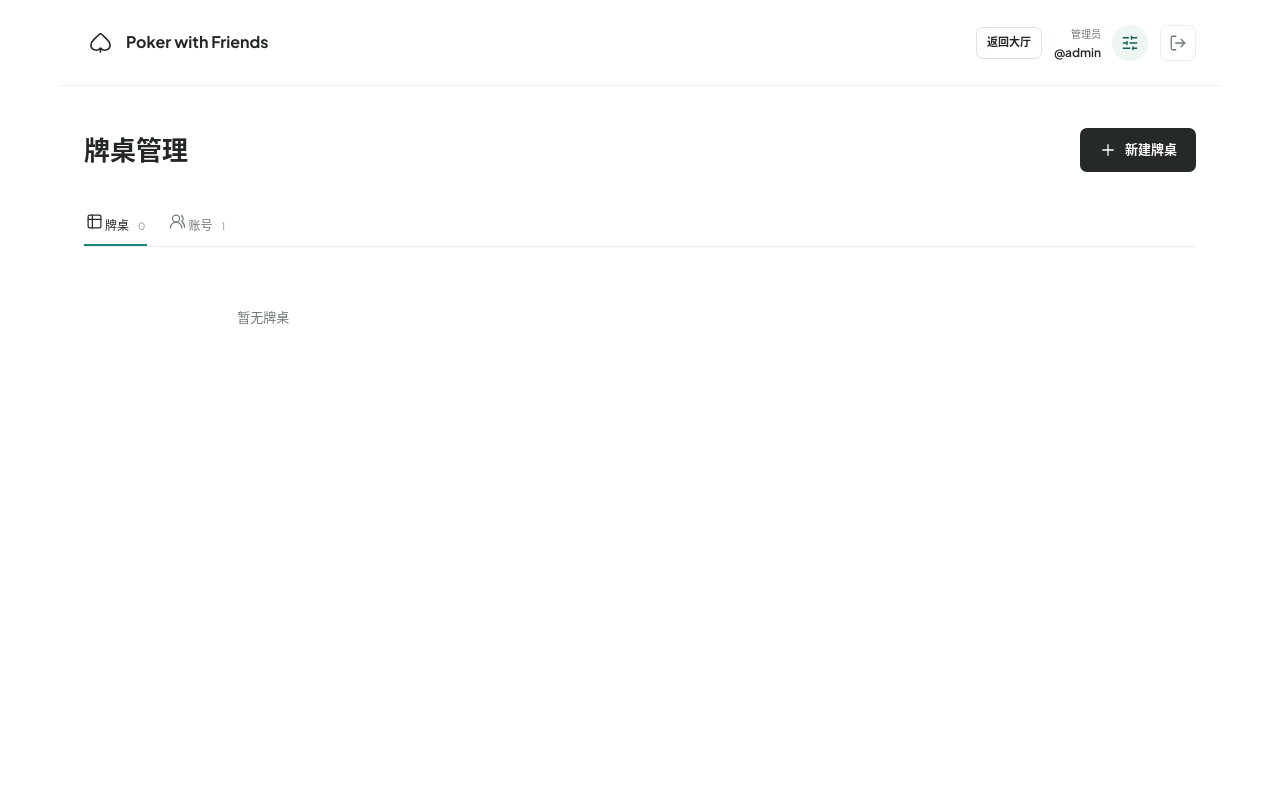
password changes without the old password › lets a admin save a new password and validates its length
Click the button "管理员 @admin" at (1101,42), box [1054, 24, 1148, 60]
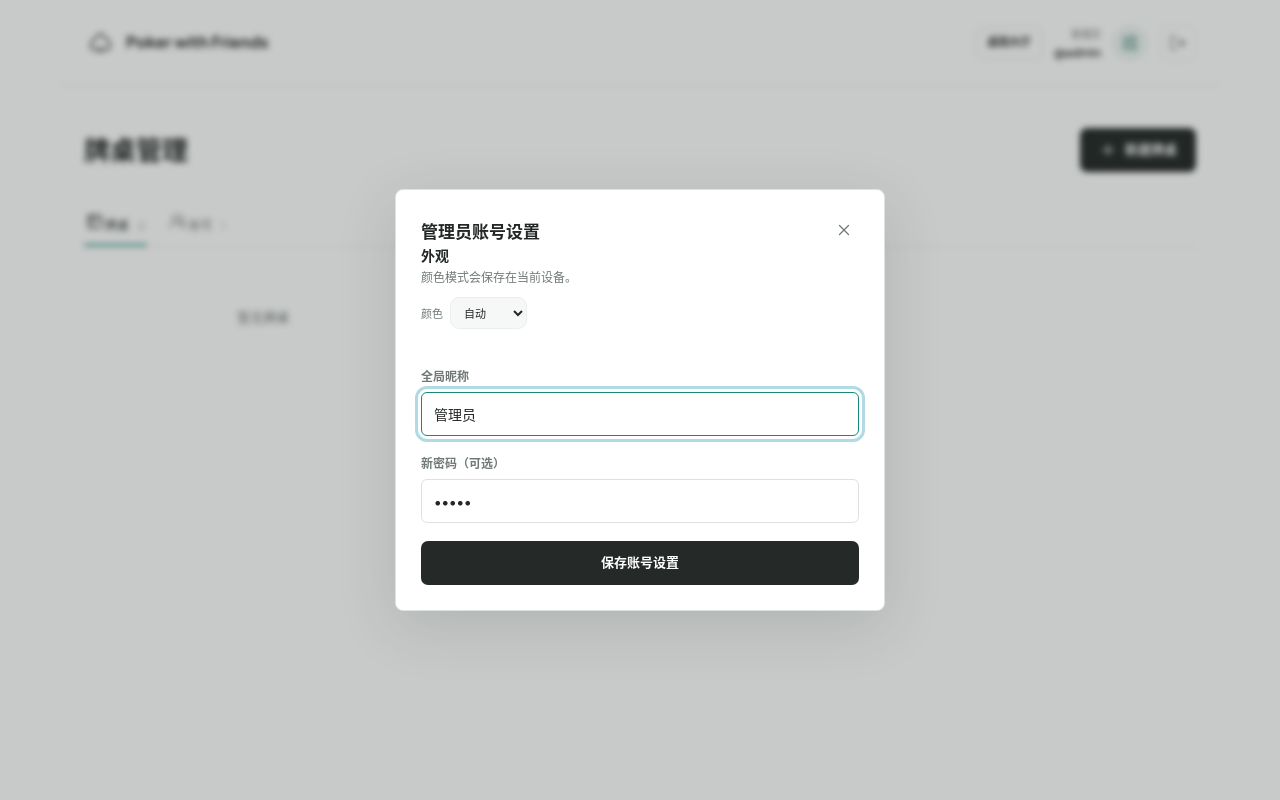
Now the number of password fields is 1
Type "short" into the password field labelled "新密码（可选）" at (640,501), box [421, 479, 859, 523]
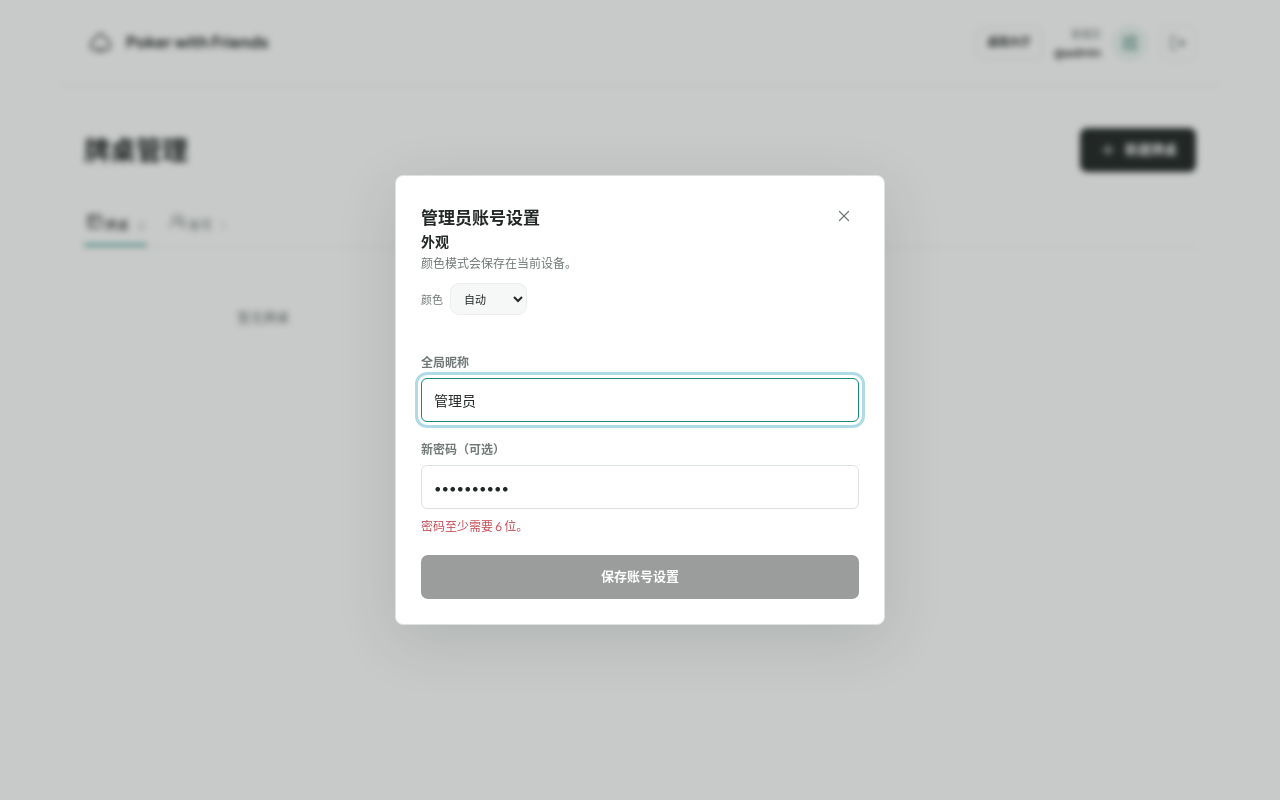
Now the button "保存账号设置" is disabled, box [421, 555, 859, 599]
Type "new-secret" into the password field labelled "新密码（可选） 密码至少需要 6 位。" at (640,487), box [421, 465, 859, 509]
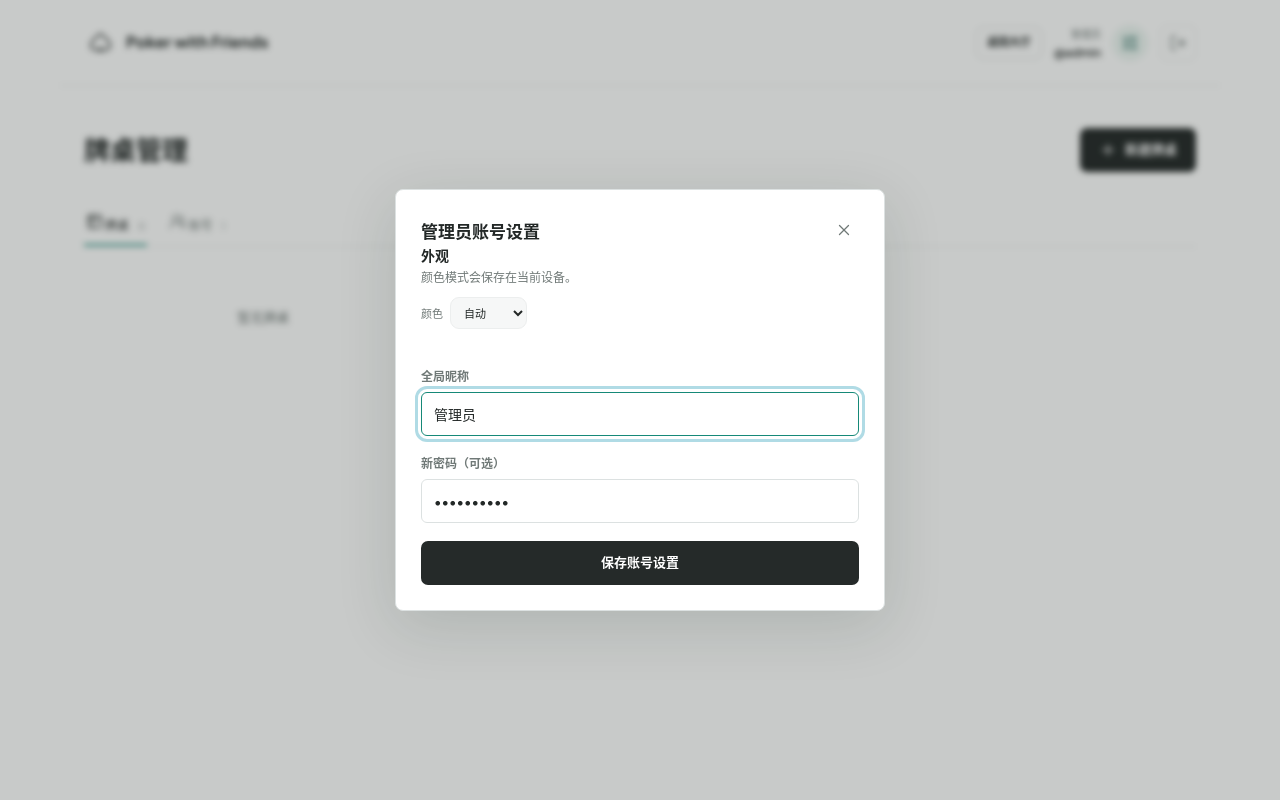
Now the button "保存账号设置" is enabled, box [421, 541, 859, 585]
Submit the form, box [421, 367, 859, 585]
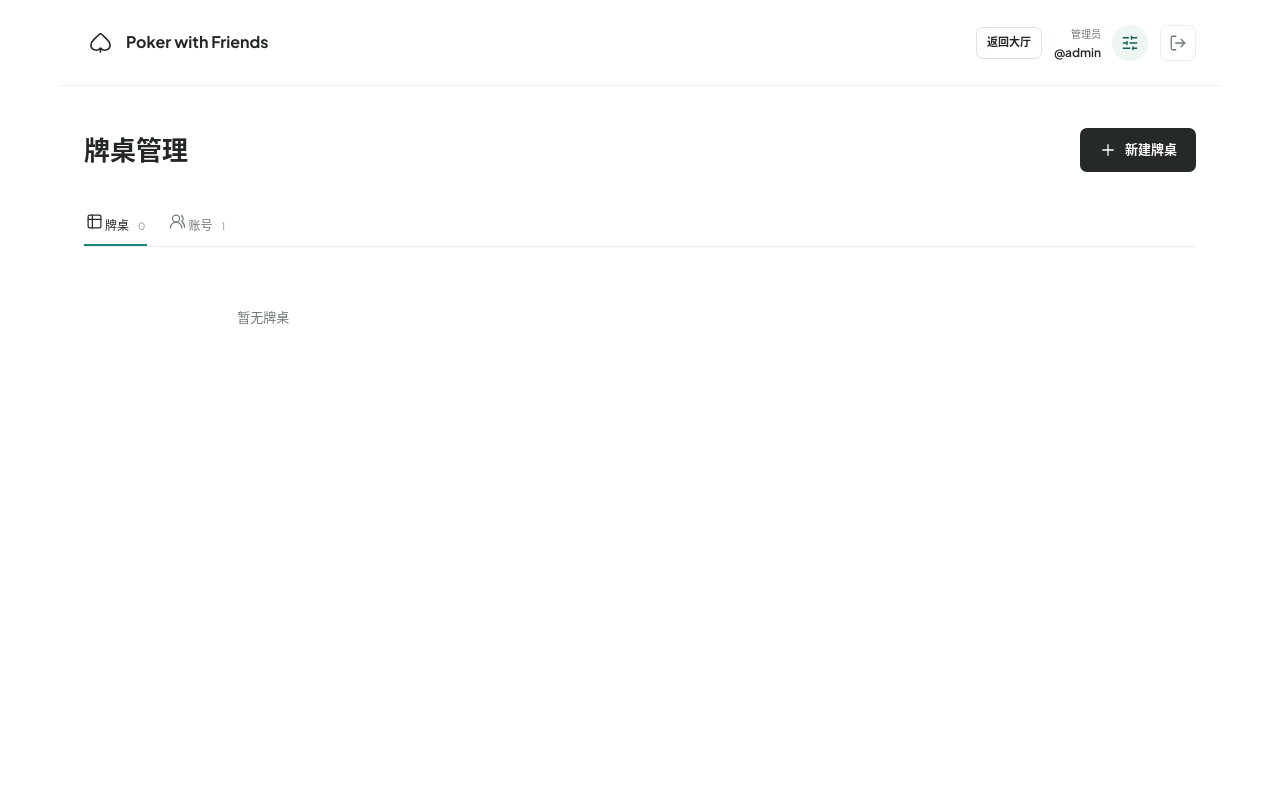
Now the dialog is gone
